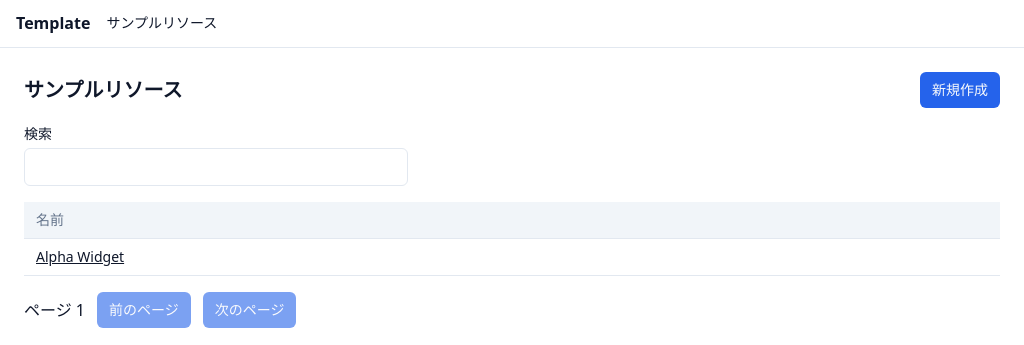
Scenario: sample resource detail › opens the selected item from the list and shows its contents
Click the link "Alpha Widget" at (80, 256), box [36,247,124,266]
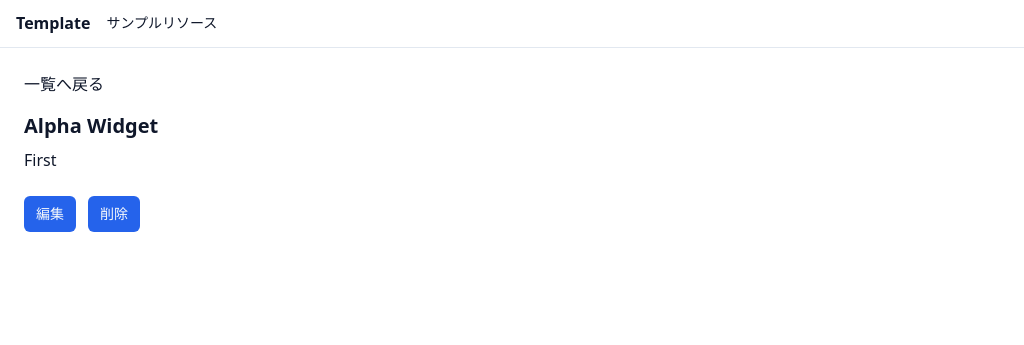
Check: the heading "Alpha Widget" is shown, box [24,112,158,139]
Check: the text "First" is shown, box [24,149,56,171]
